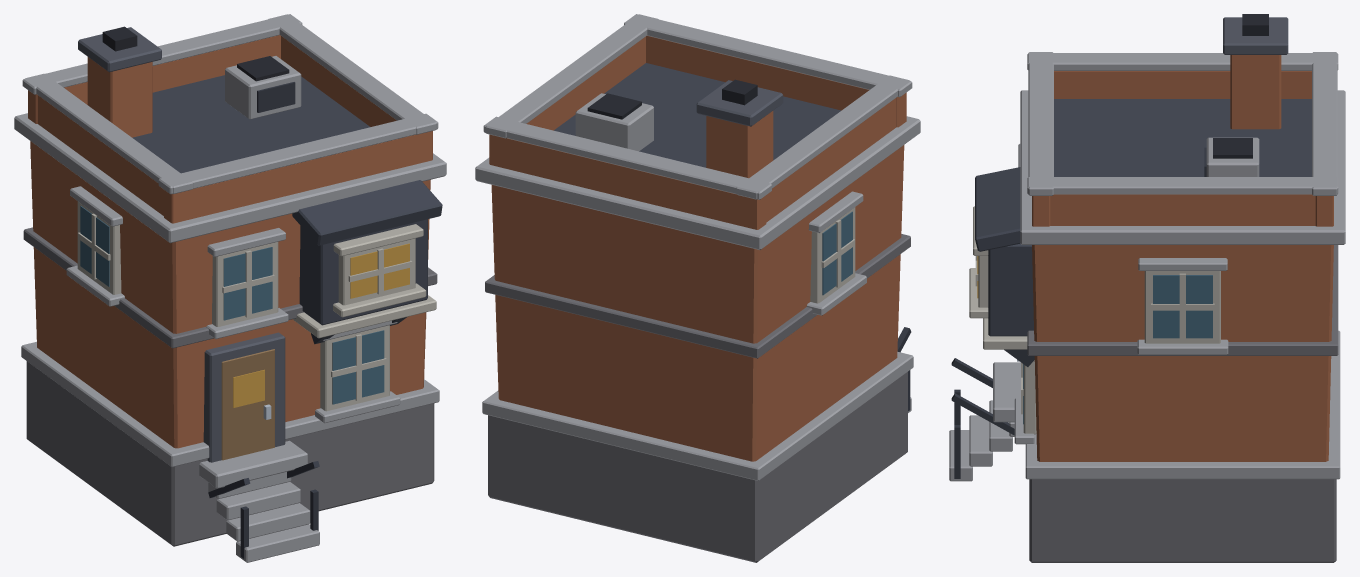
File: Stylized_Building_Townhouse.fbx
The picture shows the model from 3 angles, left to right: view 1: azimuth 30°, elevation 25°; view 2: azimuth 150°, elevation 25°; view 3: azimuth 270°, elevation 25°; orthographic projection. The views are drawn at different scales.
Parts seen in each view (by area): view 1: Stylized_Building_Townhouse; view 2: Stylized_Building_Townhouse; view 3: Stylized_Building_Townhouse.
Boxes of the visible parts, box(x1,y1,x2,y2) form: Stylized_Building_Townhouse: box(14, 14, 446, 562); Stylized_Building_Townhouse: box(475, 14, 920, 562); Stylized_Building_Townhouse: box(949, 14, 1345, 562).
Size of the model in its own units: 3.78 by 5.33 by 4.36.
